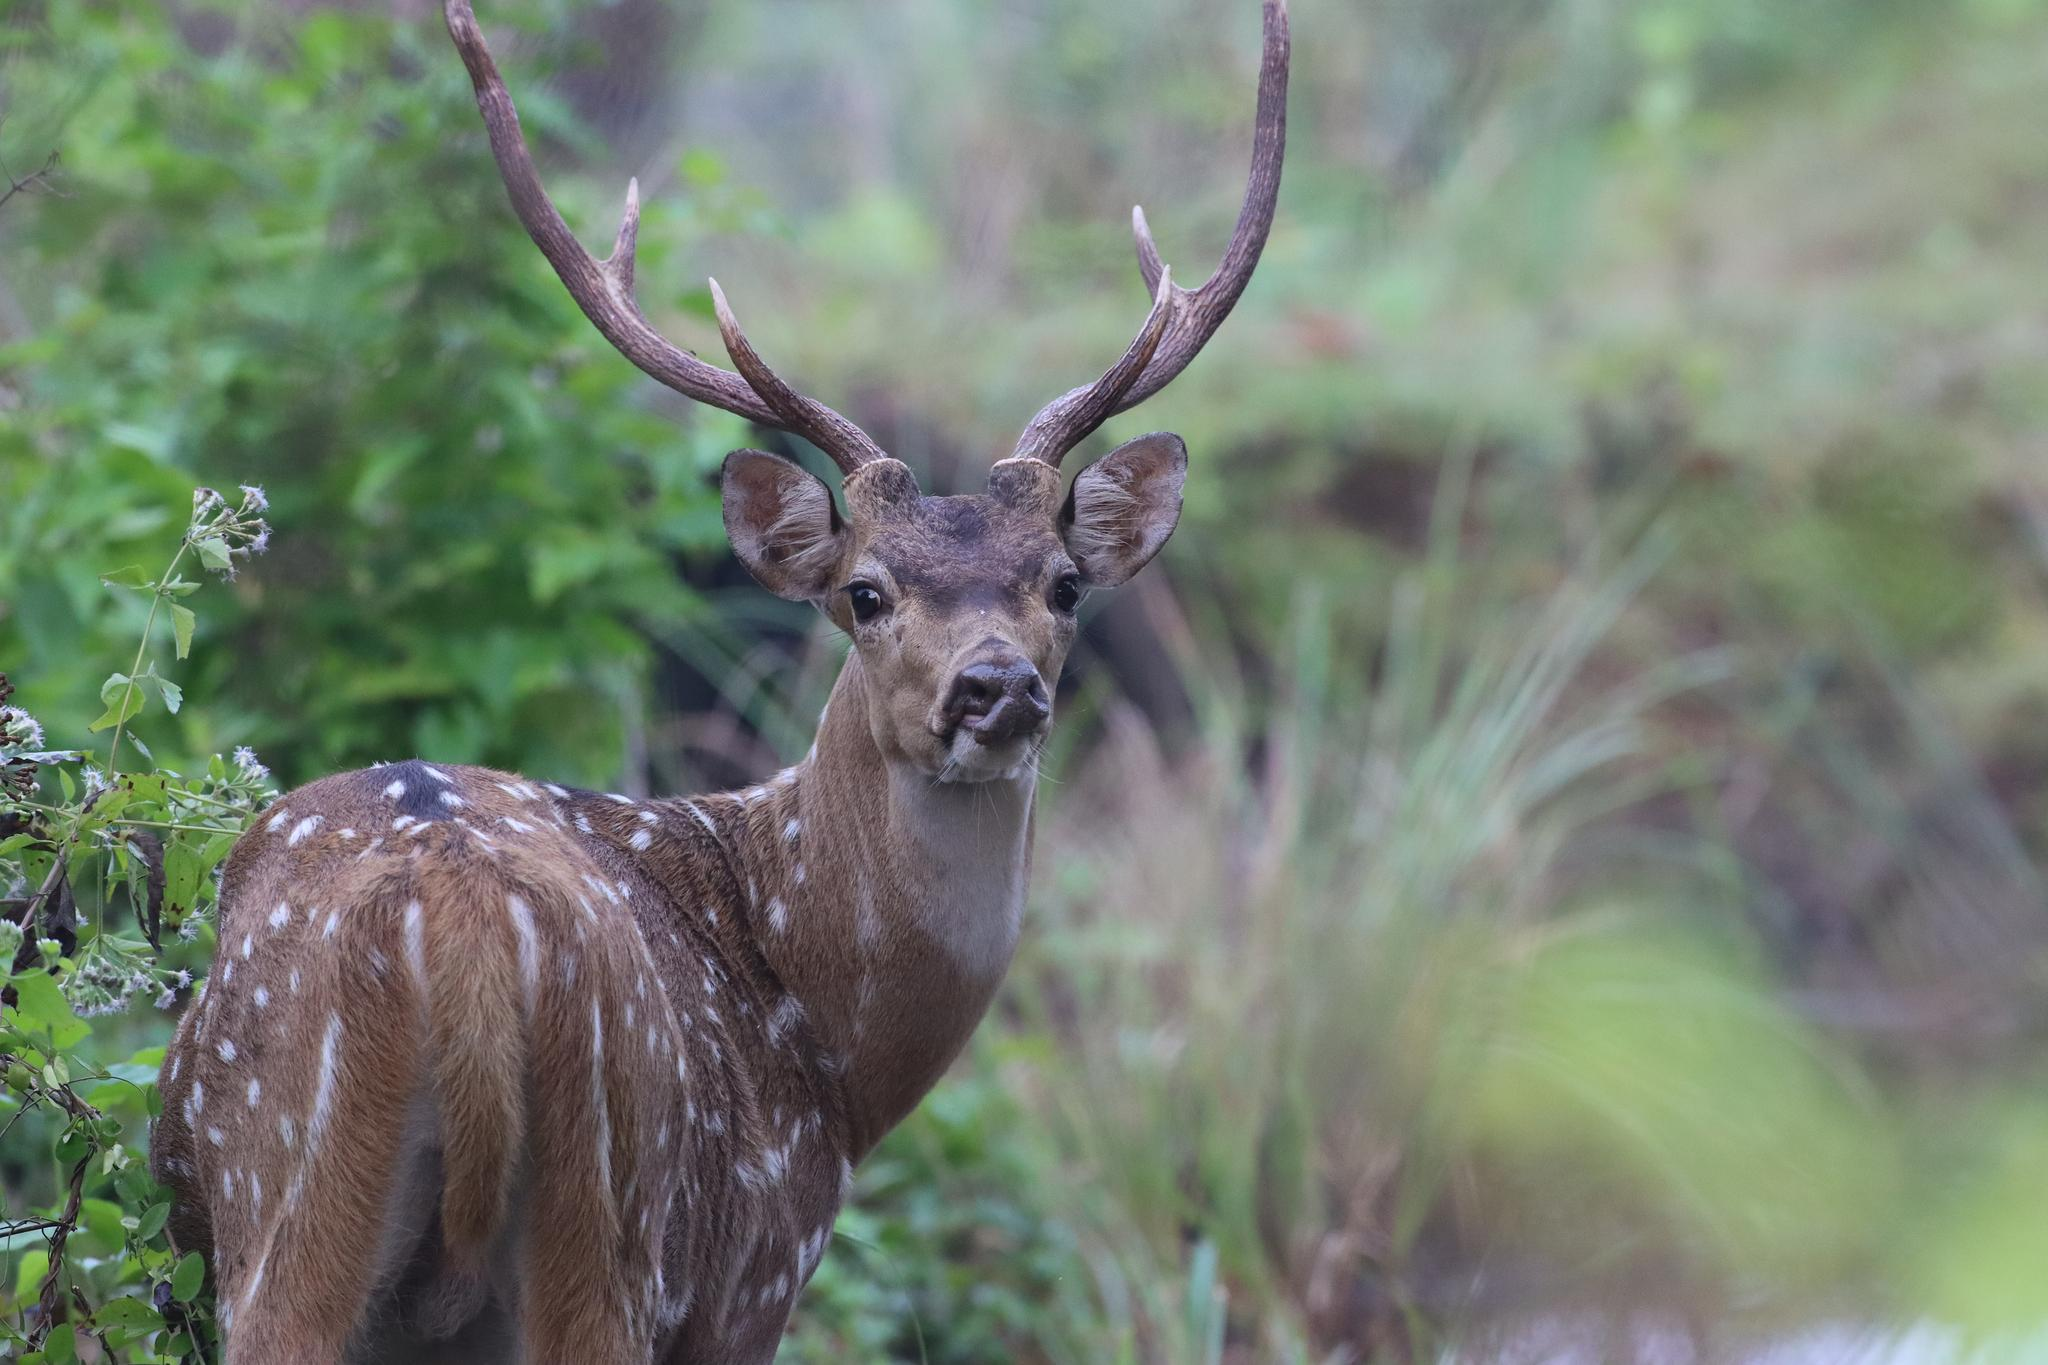Deer: (151, 0, 1290, 1363)
